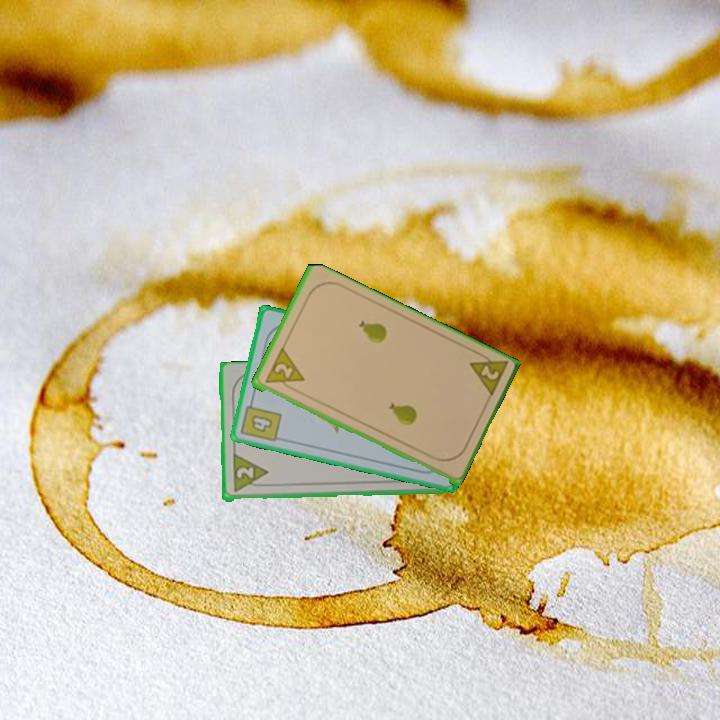2p: (465, 347, 510, 401), (261, 346, 307, 394), (229, 452, 270, 495)
4b: (237, 395, 285, 445)
